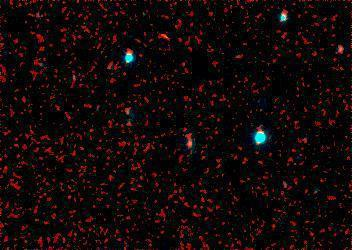star: (151, 23, 181, 53)
